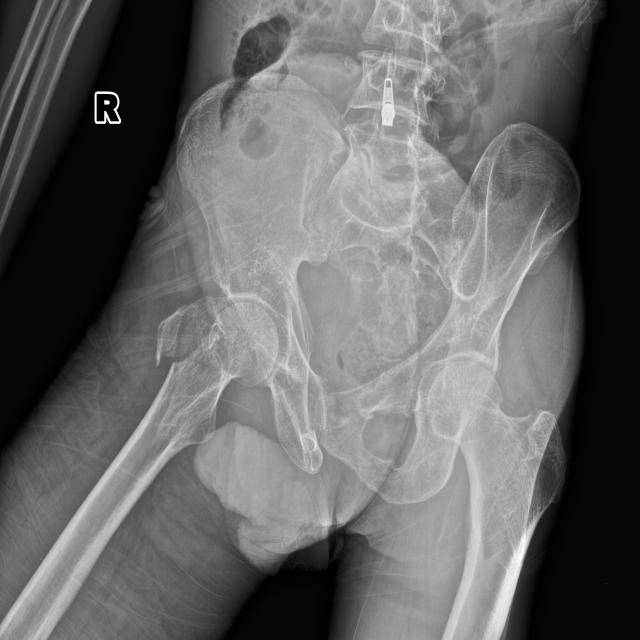normal-left: (426, 362, 567, 640)
right-grater-trochanter: (111, 302, 279, 488), (156, 297, 225, 369)
